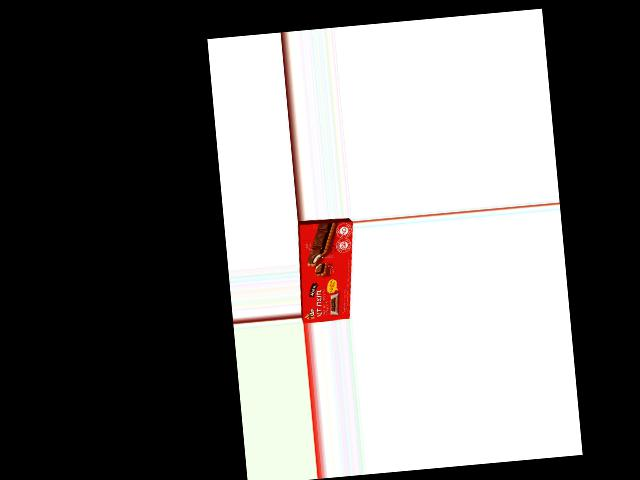chocolate: (297, 218, 355, 324)
